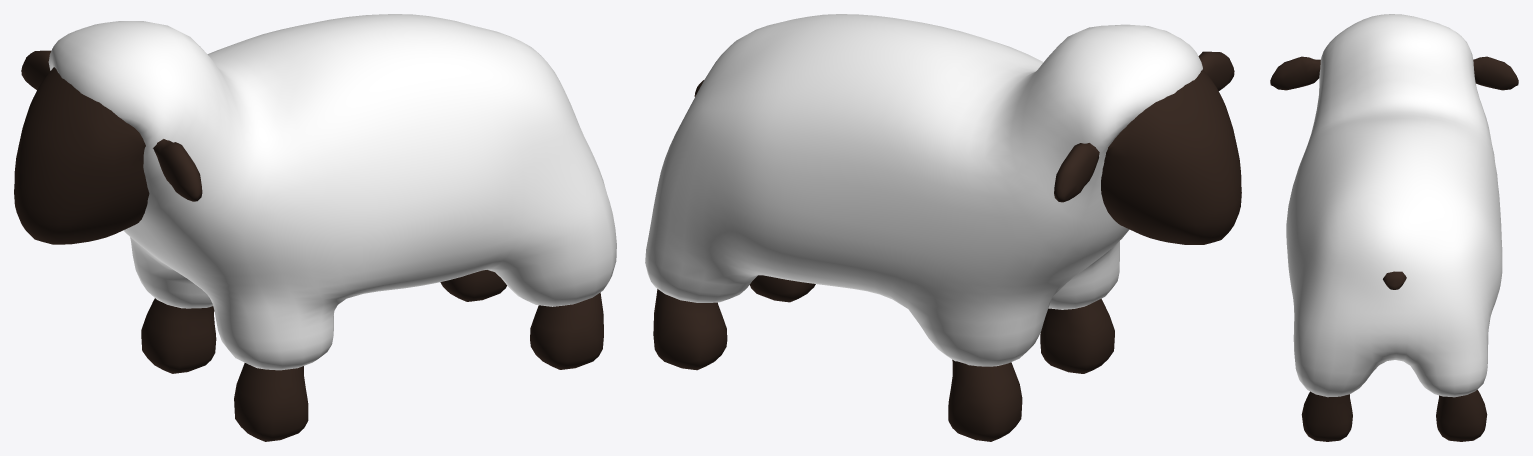
File: mouton good mesh please.fbx
The picture shows the model from 3 angles, left to right: view 1: azimuth 30°, elevation 25°; view 2: azimuth 150°, elevation 25°; view 3: azimuth 270°, elevation 25°; orthographic projection. The views are drawn at different scales.
Parts seen in each view (by area): view 1: Mouton_high.002; view 2: Mouton_high.002; view 3: Mouton_high.002.
Part boxes in pixels (x1=…): Mouton_high.002: x1=14, y1=14, x2=616, y2=441; Mouton_high.002: x1=645, y1=14, x2=1241, y2=441; Mouton_high.002: x1=1270, y1=14, x2=1518, y2=441.
Bounding box in the file's own units: 89.08 × 60.41 × 48.46.
